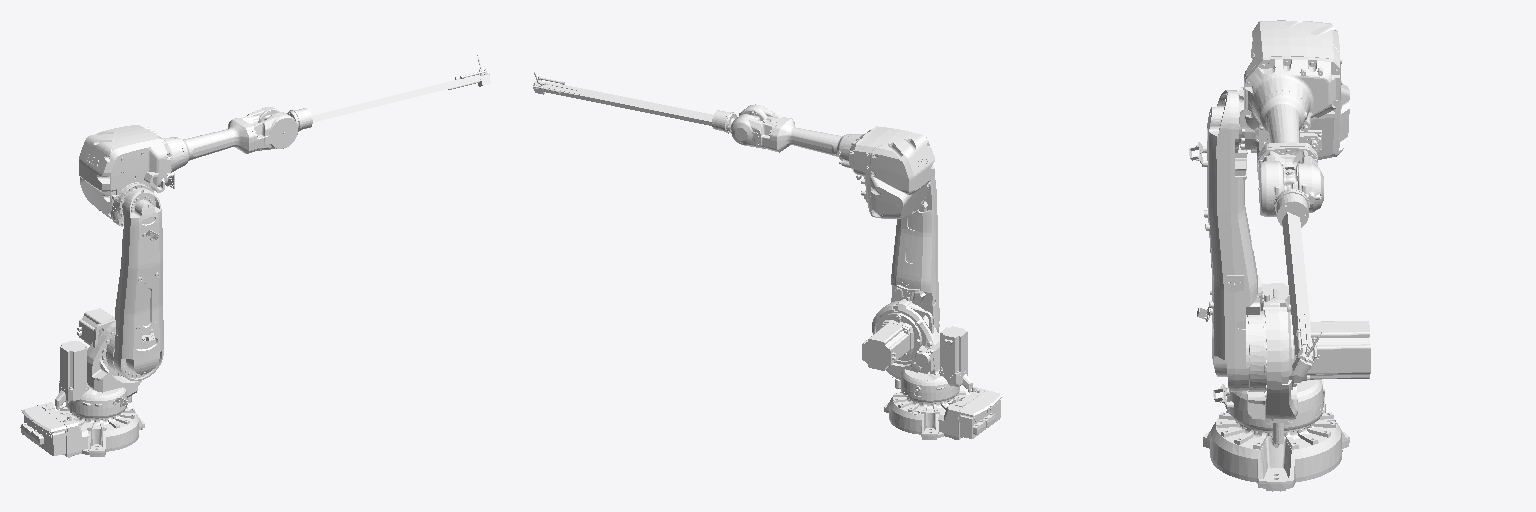
robot.urdf — ABB4600_urdf:
<?xml version="1.0" encoding="utf-8"?>
<!-- This URDF was automatically created by SolidWorks to URDF Exporter! Originally created by Stephen Brawner (brawner@gmail.com) 
     Commit Version: 1.6.0-4-g7f85cfe  Build Version: 1.6.7995.38578
     For more information, please see http://wiki.ros.org/sw_urdf_exporter -->
<robot
  name="ABB4600_urdf">
  <link
    name="base_link">
    <inertial>
      <origin
        xyz="-0.0911932890918684 0.000363208968098766 0.0719644587562096"
        rpy="0 0 0" />
      <mass
        value="30.2818624113324" />
      <inertia
        ixx="0.42324104577689"
        ixy="0.00392142735894152"
        ixz="0.0579868623484162"
        iyy="0.85947550412857"
        iyz="0.000145370658908216"
        izz="1.1607705721215" />
    </inertial>
    <visual>
      <origin
        xyz="0 0 0"
        rpy="0 0 0" />
      <geometry>
        <mesh
          filename="package://ABB4600_urdf/meshes/base_link.STL" />
      </geometry>
      <material
        name="">
        <color
          rgba="1 1 1 1" />
      </material>
    </visual>
    <collision>
      <origin
        xyz="0 0 0"
        rpy="0 0 0" />
      <geometry>
        <mesh
          filename="package://ABB4600_urdf/meshes/base_link.STL" />
      </geometry>
    </collision>
  </link>
  <link
    name="Link1">
    <inertial>
      <origin
        xyz="0.0758968117601865 0.0280025983981409 0.234699031737896"
        rpy="0 0 0" />
      <mass
        value="42.4132582242364" />
      <inertia
        ixx="1.12147028275501"
        ixy="-0.111102917614093"
        ixz="-0.294543295169321"
        iyy="1.44041435664796"
        iyz="-0.116325217481024"
        izz="1.15997847480042" />
    </inertial>
    <visual>
      <origin
        xyz="0 0 0"
        rpy="0 0 0" />
      <geometry>
        <mesh
          filename="package://ABB4600_urdf/meshes/Link1.STL" />
      </geometry>
      <material
        name="">
        <color
          rgba="1 1 1 1" />
      </material>
    </visual>
    <collision>
      <origin
        xyz="0 0 0"
        rpy="0 0 0" />
      <geometry>
        <mesh
          filename="package://ABB4600_urdf/meshes/Link1.STL" />
      </geometry>
    </collision>
  </link>
  <joint
    name="Joint1"
    type="continuous">
    <origin
      xyz="0 0 0.155"
      rpy="0 0 0" />
    <parent
      link="base_link" />
    <child
      link="Link1" />
    <axis
      xyz="0 0 -1" />
    <limit
      lower="-3"
      upper="3"
      effort="3"
      velocity="3" />
  </joint>
  <link
    name="Link2">
    <inertial>
      <origin
        xyz="0.00122868633094958 0.396773988704683 0.0640753512233016"
        rpy="0 0 0" />
      <mass
        value="28.081254917396" />
      <inertia
        ixx="2.16966410447276"
        ixy="-0.00553147143154108"
        ixz="-0.000184011944501045"
        iyy="0.160934395101855"
        iyz="-0.0736394569229643"
        izz="2.24820594763906" />
    </inertial>
    <visual>
      <origin
        xyz="0 0 0"
        rpy="0 0 0" />
      <geometry>
        <mesh
          filename="package://ABB4600_urdf/meshes/Link2.STL" />
      </geometry>
      <material
        name="">
        <color
          rgba="1 1 1 1" />
      </material>
    </visual>
    <collision>
      <origin
        xyz="0 0 0"
        rpy="0 0 0" />
      <geometry>
        <mesh
          filename="package://ABB4600_urdf/meshes/Link2.STL" />
      </geometry>
    </collision>
  </link>
  <joint
    name="Joint2"
    type="continuous">
    <origin
      xyz="0.17945 -0.098822 0.3295"
      rpy="1.5708 0 0.043315" />
    <parent
      link="Link1" />
    <child
      link="Link2" />
    <axis
      xyz="0 0 -1" />
    <limit
      lower="-3"
      upper="3"
      effort="3"
      velocity="3" />
  </joint>
  <link
    name="Link3">
    <inertial>
      <origin
        xyz="0.0401961431285417 0.119032865127366 -0.185650831272444"
        rpy="0 0 0" />
      <mass
        value="51.1585575475068" />
      <inertia
        ixx="1.13312203966925"
        ixy="-0.117395942679003"
        ixz="-0.0735200500472539"
        iyy="1.13983455155525"
        iyz="0.0140831637948014"
        izz="1.38699397598086" />
    </inertial>
    <visual>
      <origin
        xyz="0 0 0"
        rpy="0 0 0" />
      <geometry>
        <mesh
          filename="package://ABB4600_urdf/meshes/Link3.STL" />
      </geometry>
      <material
        name="">
        <color
          rgba="1 1 1 1" />
      </material>
    </visual>
    <collision>
      <origin
        xyz="0 0 0"
        rpy="0 0 0" />
      <geometry>
        <mesh
          filename="package://ABB4600_urdf/meshes/Link3.STL" />
      </geometry>
    </collision>
  </link>
  <joint
    name="Joint3"
    type="continuous">
    <origin
      xyz="0.0026032 0.9 0.02985"
      rpy="0 0 0" />
    <parent
      link="Link2" />
    <child
      link="Link3" />
    <axis
      xyz="0 0 -1" />
    <limit
      lower="-3"
      upper="3"
      effort="3"
      velocity="3" />
  </joint>
  <link
    name="Link4">
    <inertial>
      <origin
        xyz="0.00197556283085997 0.00244734533440849 0.40173204114897"
        rpy="0 0 0" />
      <mass
        value="11.1138588815375" />
      <inertia
        ixx="0.461731747775202"
        ixy="2.88649886047068E-05"
        ixz="-0.00564731344771572"
        iyy="0.479366709055523"
        iyz="-0.0022869339509638"
        izz="0.0532626198131083" />
    </inertial>
    <visual>
      <origin
        xyz="0 0 0"
        rpy="0 0 0" />
      <geometry>
        <mesh
          filename="package://ABB4600_urdf/meshes/Link4.STL" />
      </geometry>
      <material
        name="">
        <color
          rgba="1 1 1 1" />
      </material>
    </visual>
    <collision>
      <origin
        xyz="0 0 0"
        rpy="0 0 0" />
      <geometry>
        <mesh
          filename="package://ABB4600_urdf/meshes/Link4.STL" />
      </geometry>
    </collision>
  </link>
  <joint
    name="Joint4"
    type="continuous">
    <origin
      xyz="0.3315 0.1746 -0.13635"
      rpy="-1.5718 -1.5708 -1.5687" />
    <parent
      link="Link3" />
    <child
      link="Link4" />
    <axis
      xyz="0 0 -1" />
    <limit
      lower="-3"
      upper="3"
      effort="3"
      velocity="3" />
  </joint>
  <link
    name="Link5">
    <inertial>
      <origin
        xyz="0.00142503334527699 0.000757988042638491 -0.0038223913272131"
        rpy="0 0 0" />
      <mass
        value="1.50273005812421" />
      <inertia
        ixx="0.00302707610407443"
        ixy="1.15598213132487E-05"
        ixz="-8.67050513965587E-07"
        iyy="0.00333475334542478"
        iyz="5.10042619148529E-06"
        izz="0.00314069875067256" />
    </inertial>
    <visual>
      <origin
        xyz="0 0 0"
        rpy="0 0 0" />
      <geometry>
        <mesh
          filename="package://ABB4600_urdf/meshes/Link5.STL" />
      </geometry>
      <material
        name="">
        <color
          rgba="1 1 1 1" />
      </material>
    </visual>
    <collision>
      <origin
        xyz="0 0 0"
        rpy="0 0 0" />
      <geometry>
        <mesh
          filename="package://ABB4600_urdf/meshes/Link5.STL" />
      </geometry>
    </collision>
  </link>
  <joint
    name="Joint5"
    type="continuous">
    <origin
      xyz="-0.00037092 -0.0015764 0.62603"
      rpy="-2.3771 -1.5708 2.3891" />
    <parent
      link="Link4" />
    <child
      link="Link5" />
    <axis
      xyz="0 0 -1" />
    <limit
      lower="-3"
      upper="3"
      effort="3"
      velocity="3" />
  </joint>
  <link
    name="Link6">
    <inertial>
      <origin
        xyz="0.0007643574225491 0.00568229341830251 0.441961274141648"
        rpy="0 0 0" />
      <mass
        value="2.40256463130803" />
      <inertia
        ixx="0.41712713267946"
        ixy="-1.60005497676363E-06"
        ixz="-0.00071970776139543"
        iyy="0.417133099068414"
        iyz="-0.00606233628376475"
        izz="0.00258876868978742" />
    </inertial>
    <visual>
      <origin
        xyz="0 0 0"
        rpy="0 0 0" />
      <geometry>
        <mesh
          filename="package://ABB4600_urdf/meshes/Link6.STL" />
      </geometry>
      <material
        name="">
        <color
          rgba="1 1 1 1" />
      </material>
    </visual>
    <collision>
      <origin
        xyz="0 0 0"
        rpy="0 0 0" />
      <geometry>
        <mesh
          filename="package://ABB4600_urdf/meshes/Link6.STL" />
      </geometry>
    </collision>
  </link>
  <joint
    name="Joint6"
    type="continuous">
    <origin
      xyz="0.073624 0.0025684 -0.00037092"
      rpy="-1.5708 1.1775 -1.5528" />
    <parent
      link="Link5" />
    <child
      link="Link6" />
    <axis
      xyz="0 0 -1" />
    <limit
      lower="-3"
      upper="3"
      effort="3"
      velocity="3" />
  </joint>
</robot>

--- Facts derived from the render (not from the file) ---
Views: 3 orthographic renders of the robot side by side, from view 1: azimuth 30°, elevation 25°; view 2: azimuth 150°, elevation 25°; view 3: azimuth 270°, elevation 25°.
Robot: ABB4600_urdf — 7 links, 6 joints (6 continuous); root link base_link; default pose: every joint at zero.
Links seen in each view (by area): view 1: Link2, Link3, Link1, base_link, Link4, Link6; view 2: Link1, Link3, Link2, base_link, Link4, Link6; view 3: Link1, Link2, Link3, base_link, Link4, Link6.
Boxes of the visible links, box(x1,y1,x2,y2) form: Link2: box(113, 188, 163, 380); Link3: box(79, 125, 183, 226); Link1: box(55, 308, 141, 421); base_link: box(20, 402, 144, 457); Link4: box(173, 107, 297, 166); Link6: box(287, 54, 490, 131); Link1: box(862, 297, 972, 405); Link3: box(839, 126, 934, 218); Link2: box(891, 176, 939, 332); base_link: box(884, 387, 1002, 439); Link4: box(728, 104, 850, 160); Link6: box(533, 72, 736, 133); Link1: box(1213, 283, 1370, 444); Link2: box(1189, 90, 1262, 391); Link3: box(1238, 20, 1349, 159); base_link: box(1203, 379, 1349, 491); Link4: box(1257, 91, 1323, 216); Link6: box(1274, 189, 1321, 377).
Bounding box of the posed robot: 2.92 × 0.6346 × 1.73 m (x, y, z).
7 mesh visuals loaded from 7 distinct referenced files (7 binary STL).
